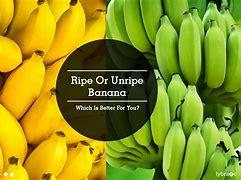banana: (0, 49, 60, 180), (157, 87, 238, 180), (157, 11, 241, 91)
